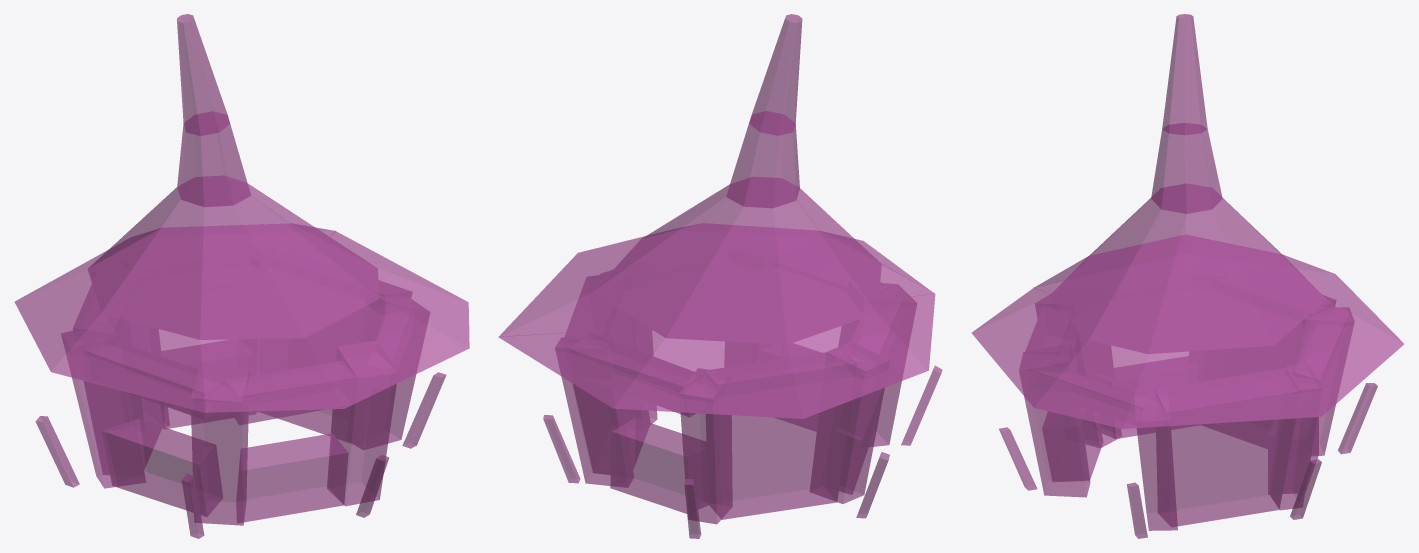
File: SM_Bld_Tent_Leader_02_Collision.fbx
3 views of the same model, side by side, from view 1: azimuth 30°, elevation 25°; view 2: azimuth 150°, elevation 25°; view 3: azimuth 270°, elevation 25° (orthographic). The views are drawn at different scales.
Visible parts, largest first — view 1: SM_Bld_Tent_Leader_02_Collision; view 2: SM_Bld_Tent_Leader_02_Collision; view 3: SM_Bld_Tent_Leader_02_Collision.
Part boxes in pixels (left/top/right/bottom): SM_Bld_Tent_Leader_02_Collision: left=15, top=14, right=469, bottom=538; SM_Bld_Tent_Leader_02_Collision: left=498, top=14, right=942, bottom=538; SM_Bld_Tent_Leader_02_Collision: left=972, top=14, right=1403, bottom=538.
Size of the model in its own units: 690 by 791 by 721.
